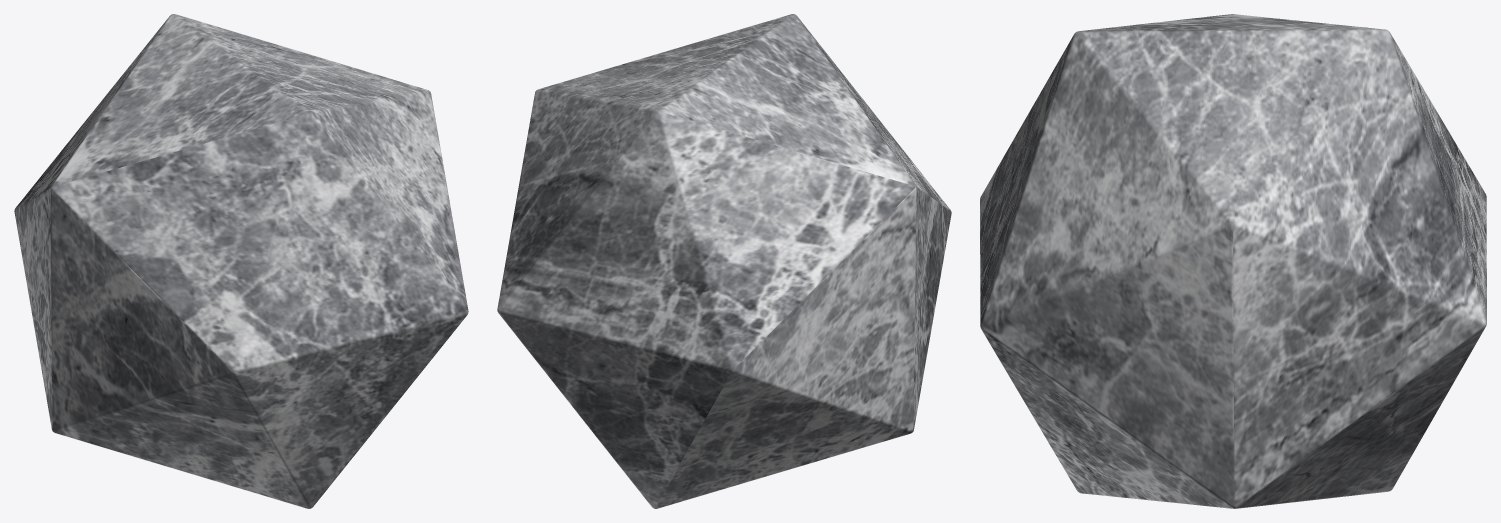
The model's file is Star_2.dae.
3 renders of one model, left to right at view 1: azimuth 30°, elevation 25°; view 2: azimuth 150°, elevation 25°; view 3: azimuth 270°, elevation 25°, orthographic. The views are drawn at different scales.
Visible parts, largest first — view 1: Star; view 2: Star; view 3: Star.
Part boxes in pixels (left/top/right/bottom): Star: left=14, top=14, right=468, bottom=508; Star: left=497, top=14, right=951, bottom=508; Star: left=980, top=14, right=1486, bottom=508.
Size of the model in its own units: 1.54 by 1.53 by 1.53.
1 material, 1 textured.
